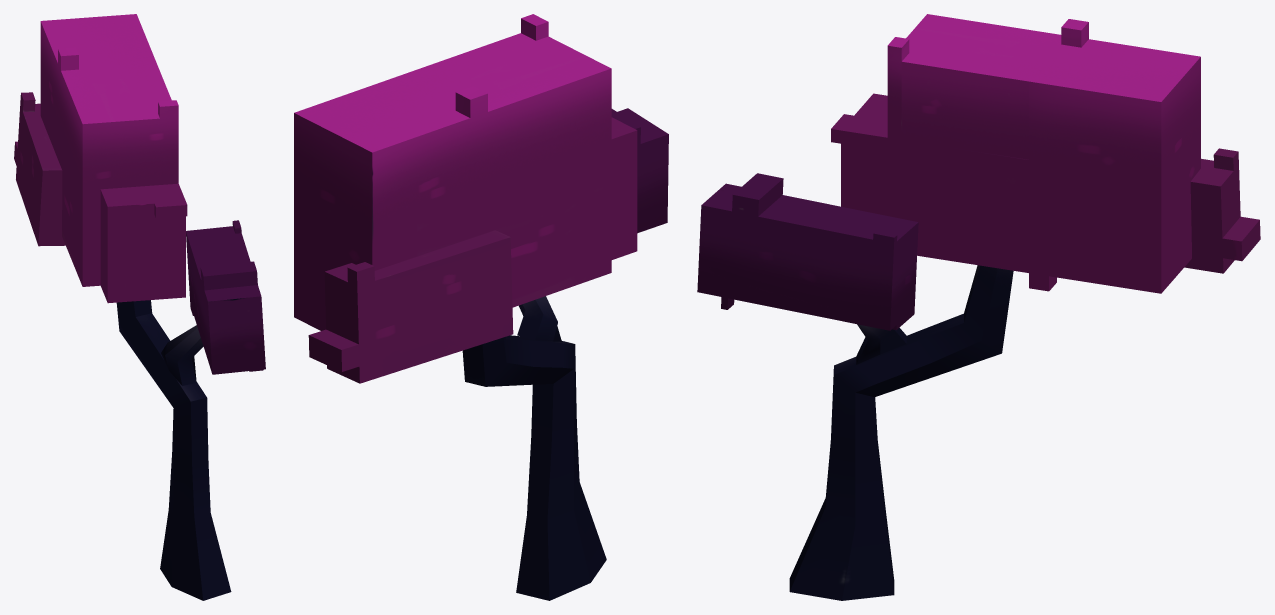
File: SakuraC.fbx
3 renders of one model, left to right at view 1: azimuth 30°, elevation 25°; view 2: azimuth 150°, elevation 25°; view 3: azimuth 270°, elevation 25°, orthographic. The views are drawn at different scales.
Visible parts, largest first — view 1: pCube13; view 2: pCube13; view 3: pCube13.
Part boxes in pixels (x1,y1,x2,y2): pCube13: (14,14,265,600); pCube13: (294,14,668,600); pCube13: (697,14,1260,600).
Bounding box in the file's own units: 2.45 × 7.08 × 6.61.
